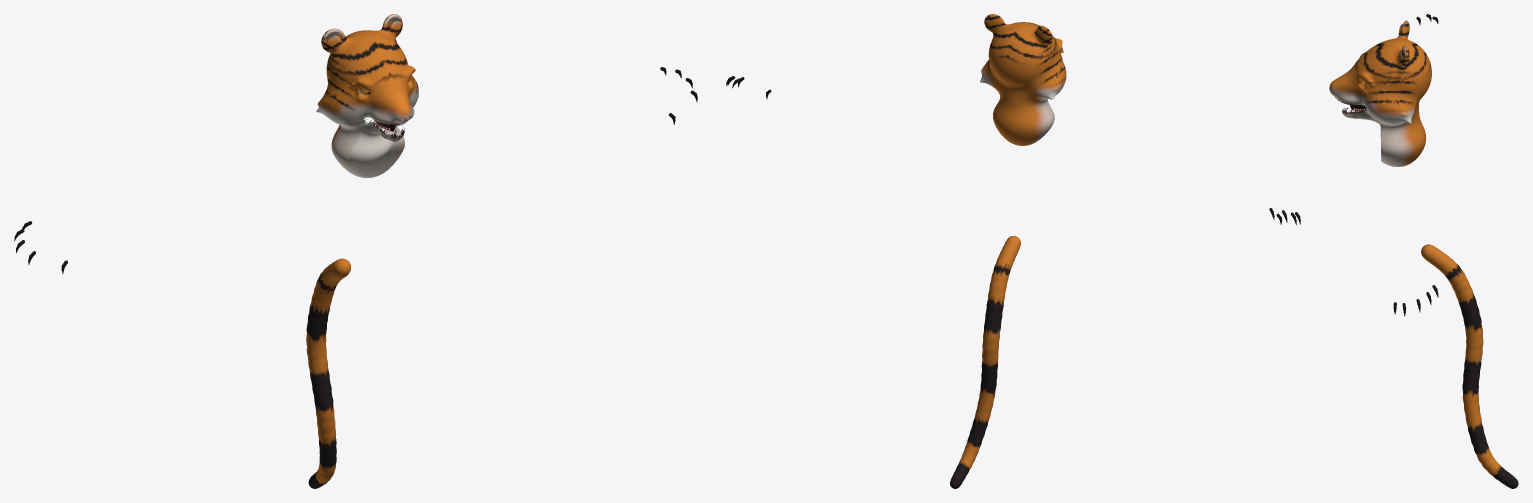
The model's file is male_tiger.glb.
3 renders of one model, left to right at view 1: azimuth 30°, elevation 25°; view 2: azimuth 150°, elevation 25°; view 3: azimuth 270°, elevation 25°, orthographic. The views are drawn at different scales.
Parts seen in each view (by area): view 1: AnimalHead, AnimalTail; view 2: AnimalHead, AnimalTail; view 3: AnimalHead, AnimalTail.
Part boxes in pixels (x1=…): AnimalHead: x1=316, y1=14, x2=418, y2=177; AnimalTail: x1=306, y1=258, x2=350, y2=488; AnimalHead: x1=980, y1=14, x2=1066, y2=145; AnimalTail: x1=950, y1=236, x2=1020, y2=488; AnimalHead: x1=1329, y1=20, x2=1431, y2=166; AnimalTail: x1=1421, y1=244, x2=1518, y2=488.
Bounding box in the file's own units: 1.94 × 1.41 × 0.5394.
